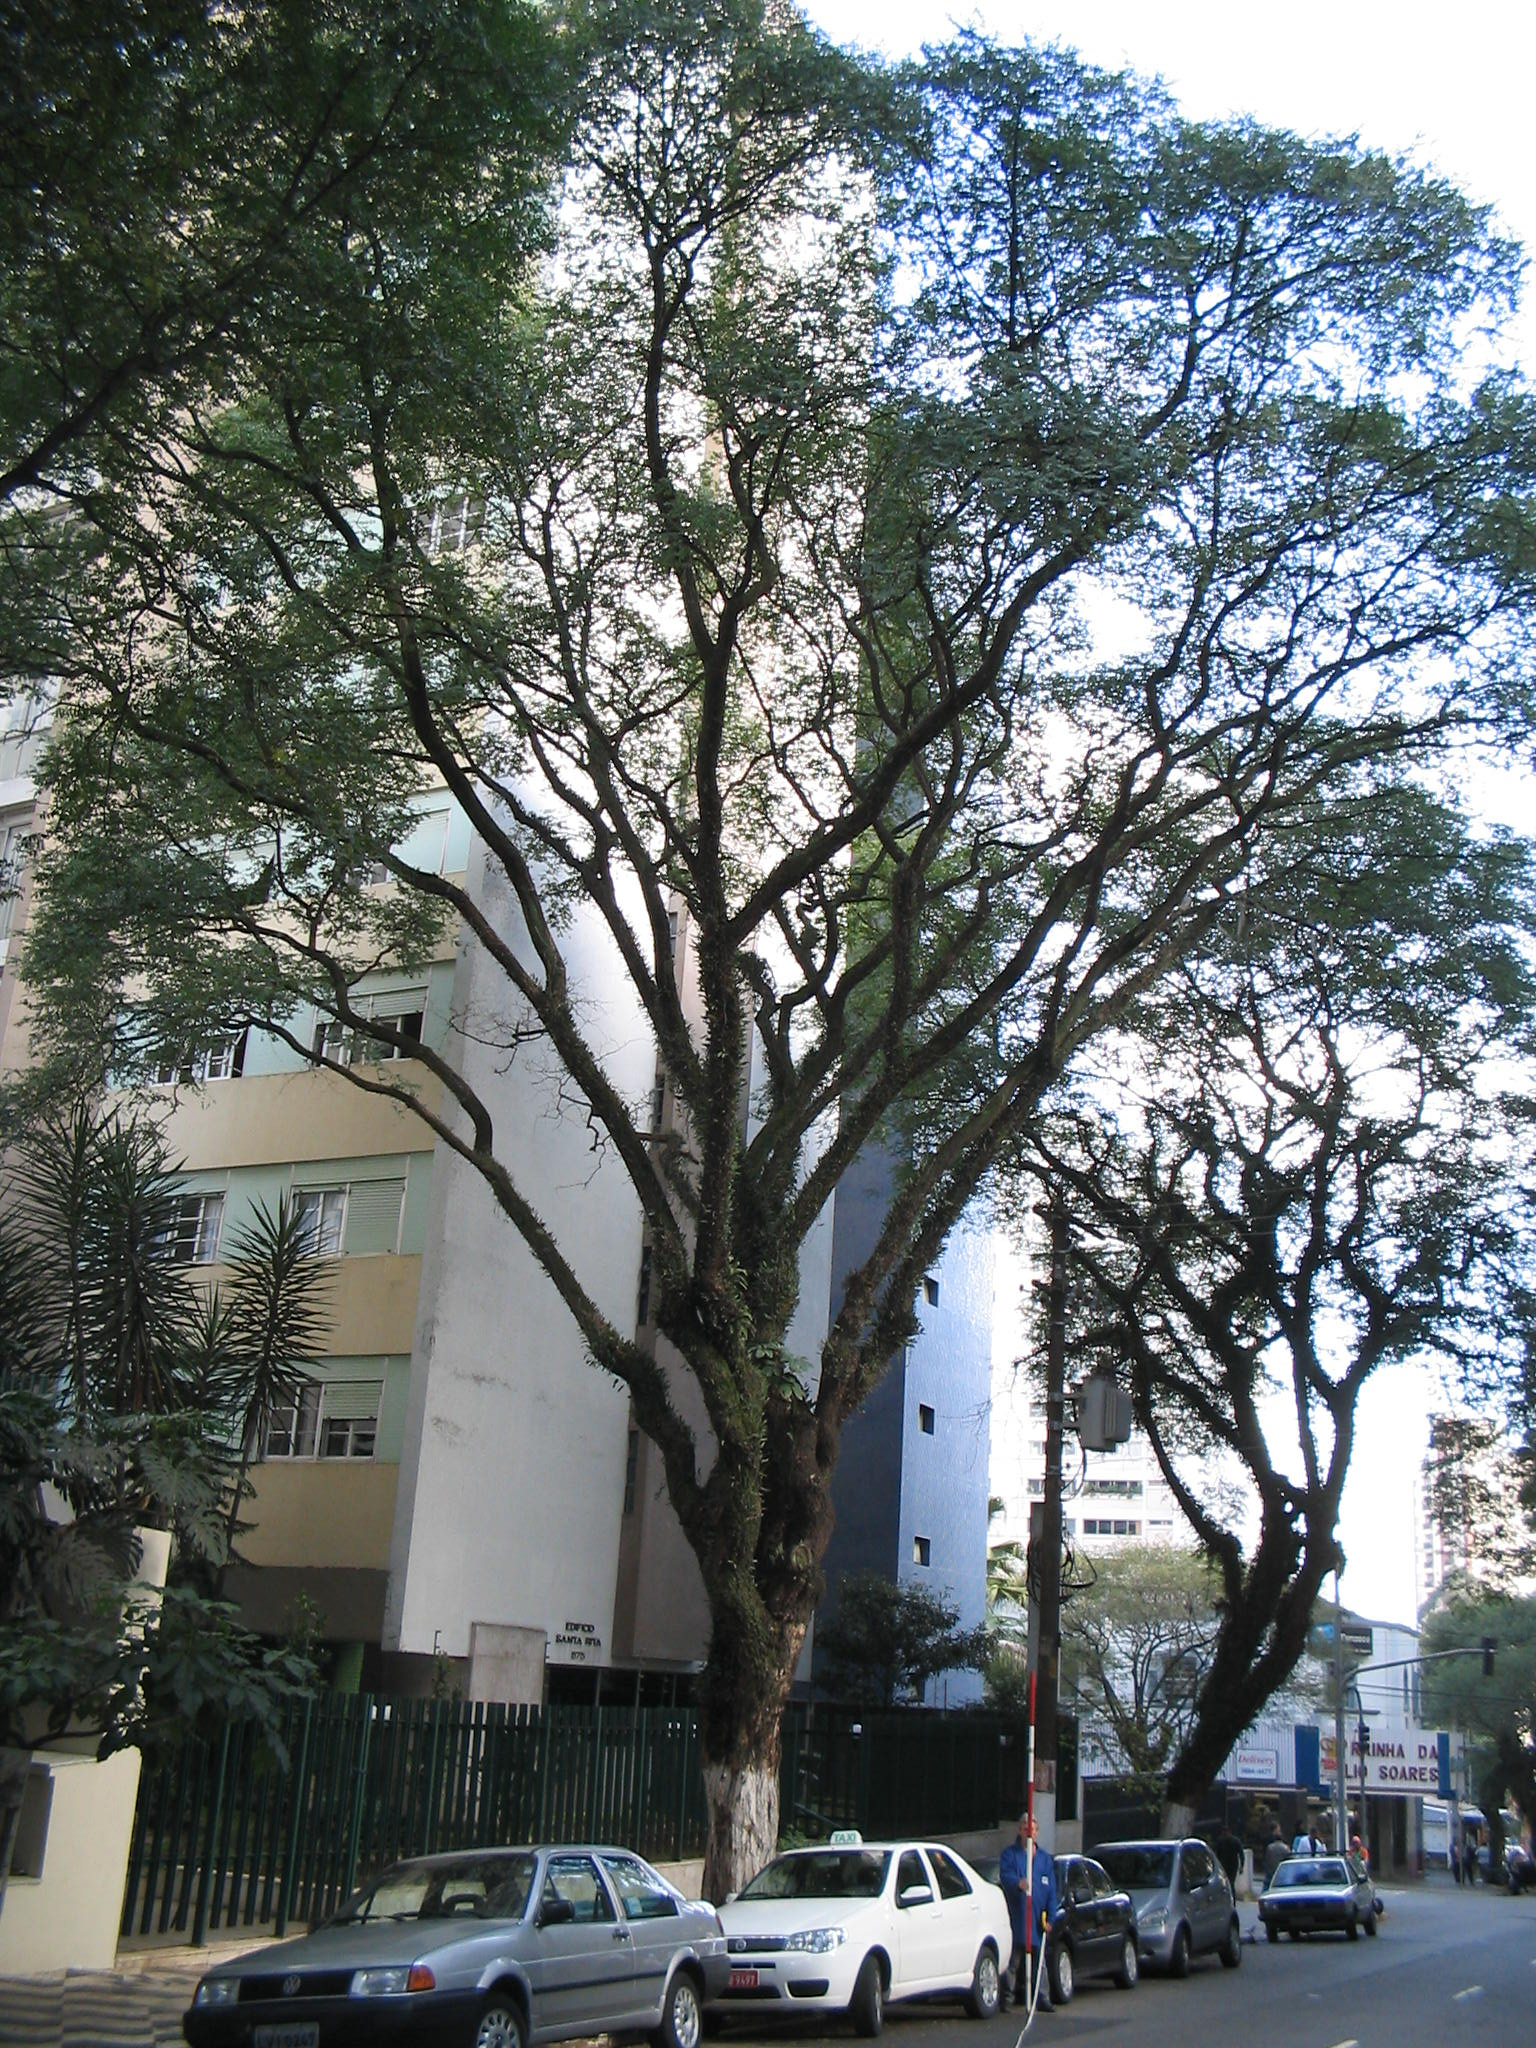crown: (24, 13, 1533, 1145)
stem: (637, 1646, 828, 1995)
stick: (1000, 1663, 1070, 2004)
tree: (18, 11, 1536, 1998), (942, 790, 1534, 1996)
